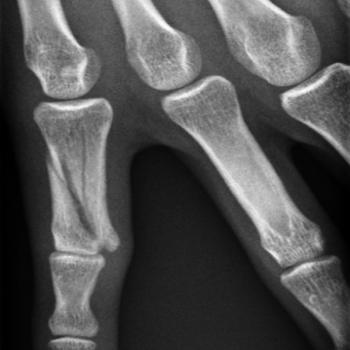Fracture: (31, 129, 118, 257)
